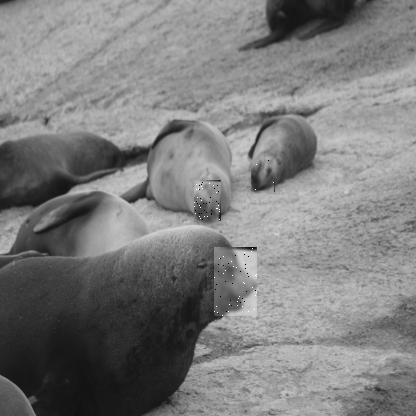face: (214, 247, 258, 317), (194, 180, 222, 222), (251, 160, 276, 193)
